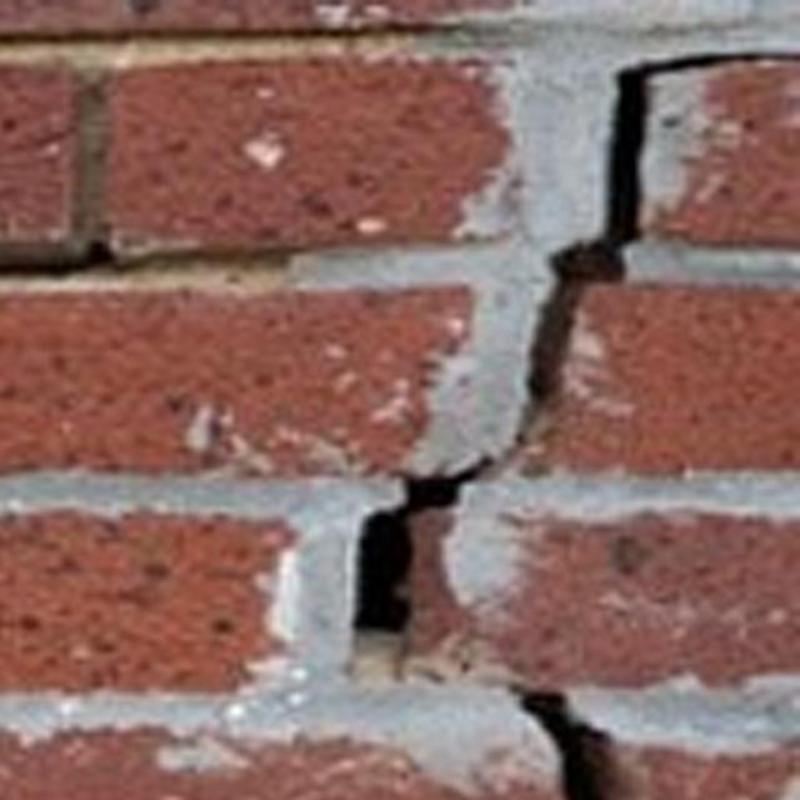pothole: (531, 53, 799, 401), (355, 458, 490, 630), (513, 684, 609, 799), (0, 240, 129, 280)
